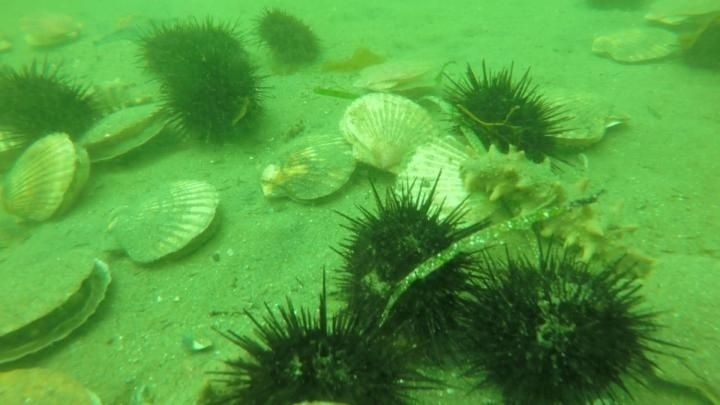echinus: (449, 233, 672, 404), (323, 175, 493, 366), (204, 280, 432, 404), (437, 59, 574, 171), (163, 55, 267, 146), (1, 59, 103, 151), (396, 349, 499, 402), (252, 6, 325, 69), (134, 18, 205, 82), (186, 16, 253, 78), (677, 13, 720, 77)
holothurian: (449, 234, 671, 405), (458, 143, 658, 286), (457, 143, 578, 218), (84, 75, 163, 118)
scallop: (1, 217, 116, 370), (622, 252, 720, 405), (99, 170, 227, 270), (392, 135, 494, 238), (1, 131, 94, 230), (336, 91, 440, 178), (522, 80, 633, 157), (256, 140, 362, 208), (76, 101, 174, 167), (1, 361, 105, 405), (355, 52, 445, 100), (588, 23, 682, 68), (673, 6, 720, 77), (14, 7, 86, 53), (641, 1, 719, 37)
starfish: (91, 9, 158, 50), (320, 40, 390, 77)
